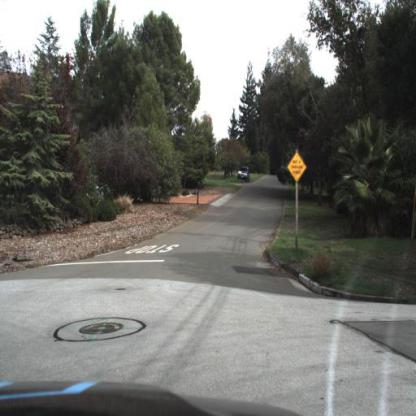car: (235, 162, 253, 186)
